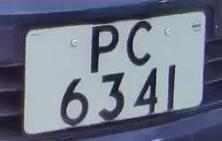1: (161, 57, 183, 118)
3: (94, 70, 131, 125)
4: (130, 64, 164, 118)
6: (56, 74, 93, 128)
C: (118, 18, 163, 69)
P: (85, 22, 127, 75)
